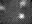person: (1, 6, 8, 11), (20, 12, 25, 18), (20, 1, 27, 5)
